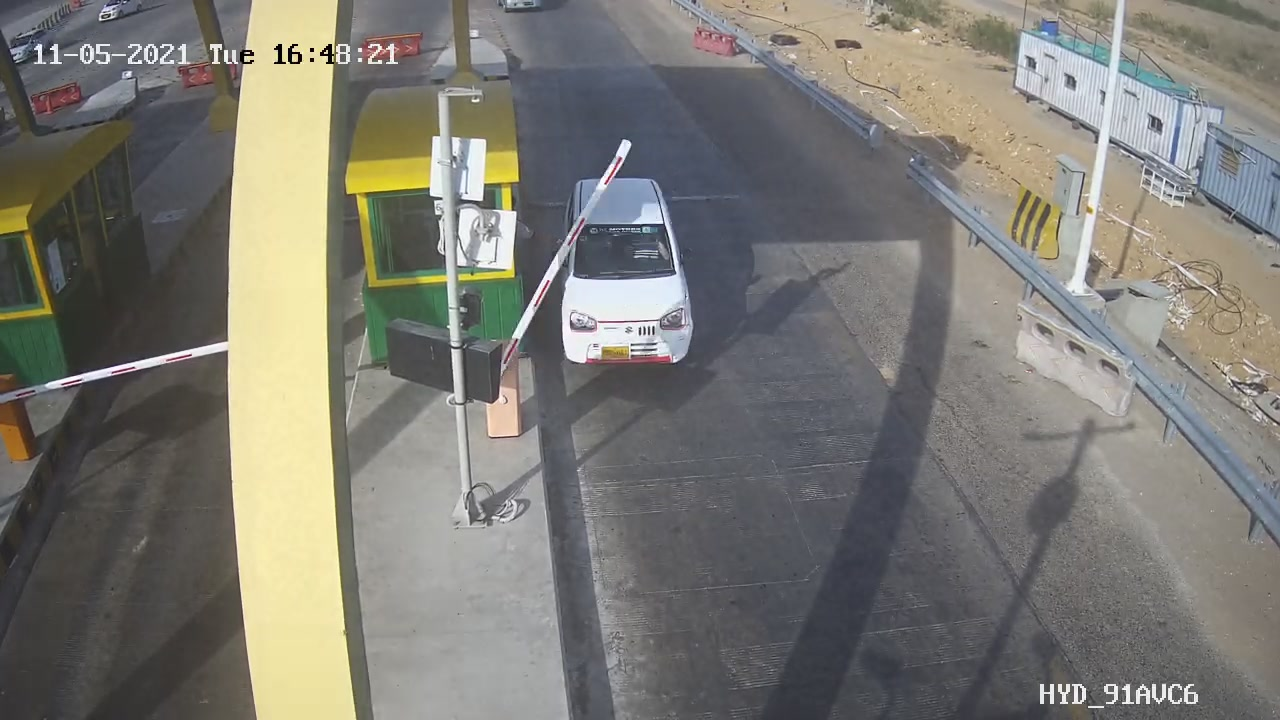F1: (544, 162, 716, 381)
